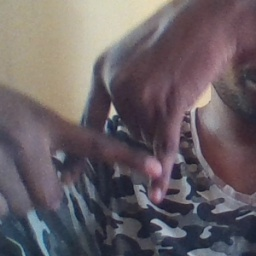H: (53, 67, 191, 205)
